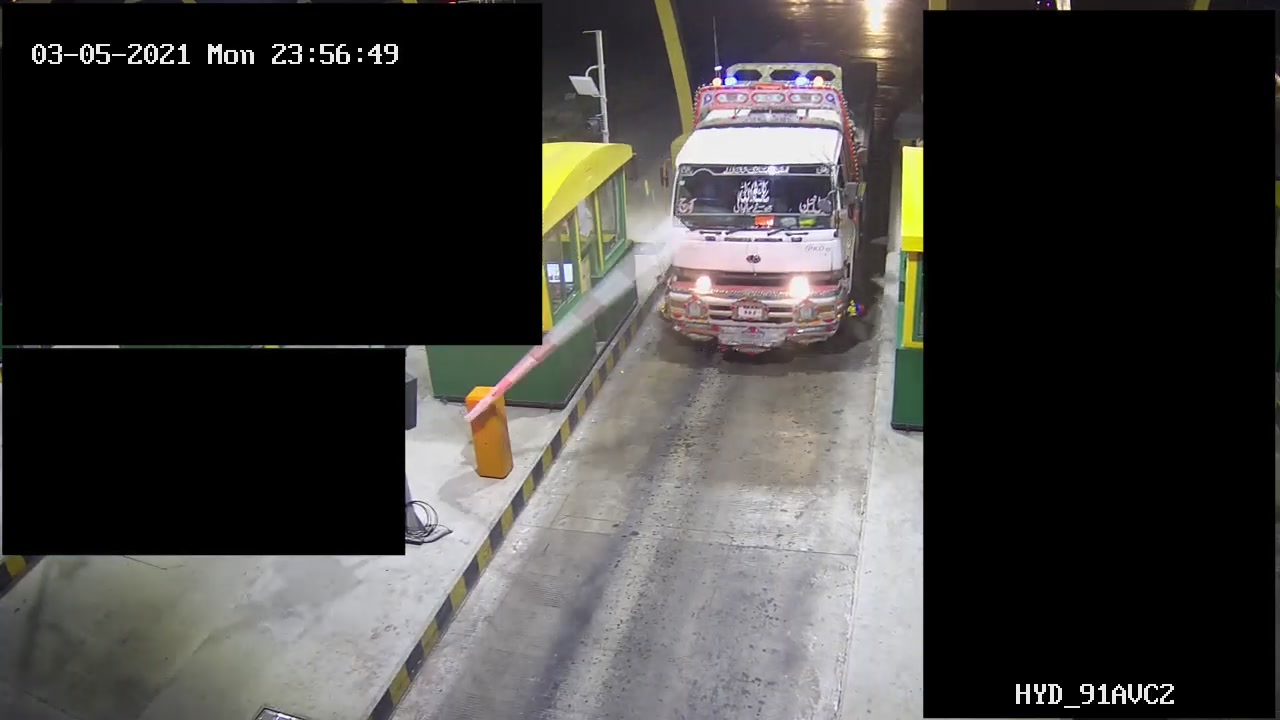F6: (651, 52, 890, 361)
